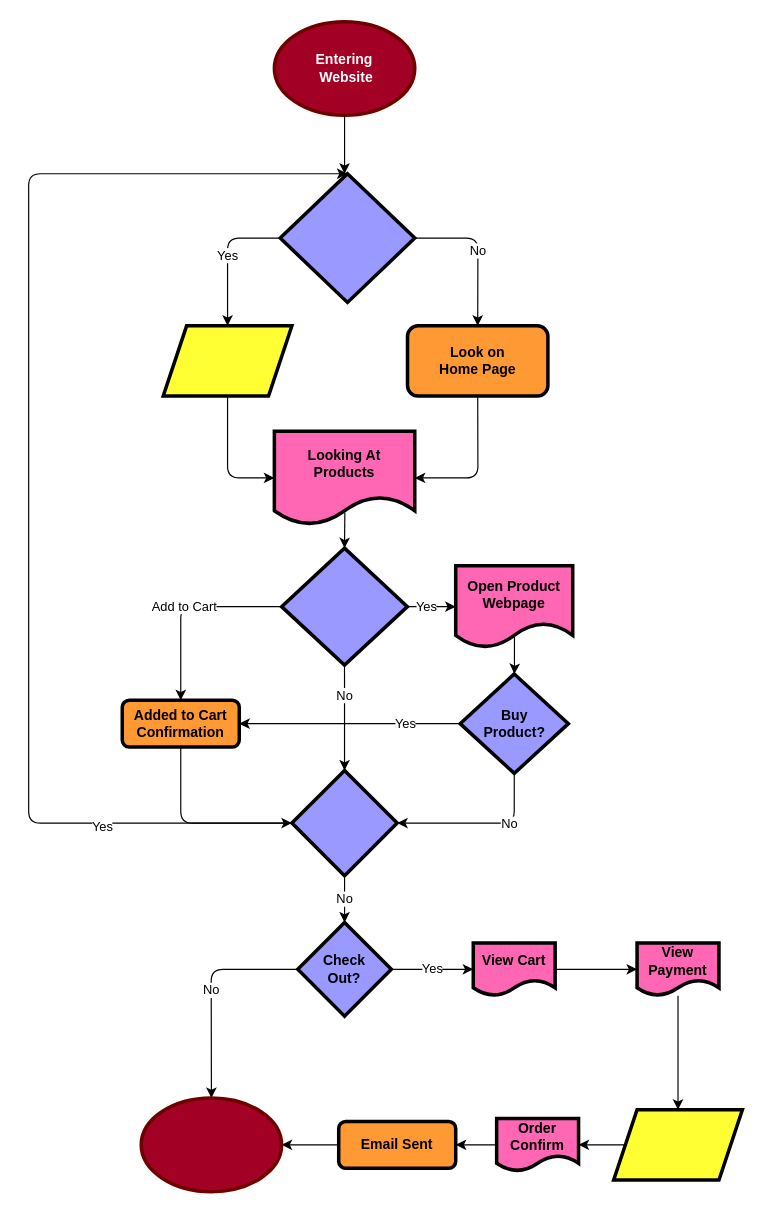
Image size: 764x1213. Some labels were removed from this diagram. Here are the shapes that lost their labels. From the top down, the centre of each, then its label:
At pixel 347 237: "Search For Product?".
At pixel 227 360: "Input Item".
At pixel 344 606: "Viewing a Specific Product?".
At pixel 344 822: "Continue Shopping?".
At pixel 211 1144: "Leaving Website".
At pixel 677 1144: "Input Payment Info".
